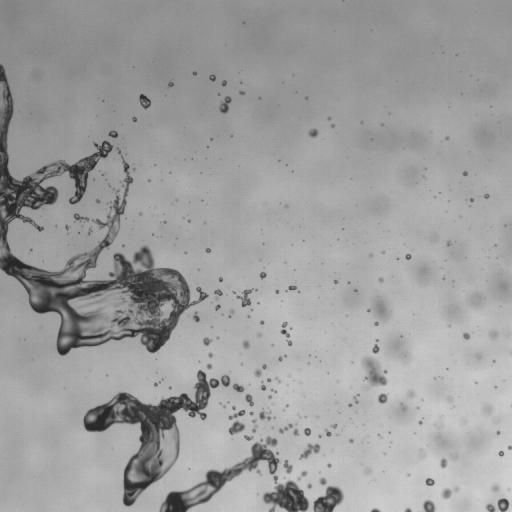droplet: (360, 356, 387, 389), (312, 486, 343, 511), (367, 295, 391, 325), (228, 409, 245, 434), (234, 288, 255, 307), (486, 498, 508, 511), (468, 292, 483, 307), (219, 96, 231, 113), (420, 500, 435, 511), (139, 94, 150, 108), (259, 410, 272, 420), (232, 383, 244, 393), (283, 460, 292, 473), (245, 394, 253, 406), (308, 128, 318, 137), (378, 393, 387, 403), (483, 404, 492, 414), (214, 289, 222, 299), (439, 458, 447, 468), (489, 330, 498, 338), (203, 337, 211, 346), (406, 390, 415, 398), (242, 340, 249, 349), (434, 420, 443, 427), (425, 478, 434, 485), (193, 312, 199, 322), (109, 130, 117, 137), (244, 434, 253, 440), (463, 332, 470, 339), (304, 428, 311, 435), (319, 478, 326, 485), (492, 484, 499, 491), (403, 354, 408, 363), (209, 74, 215, 81), (259, 272, 266, 278), (400, 403, 406, 410), (325, 429, 331, 436), (364, 468, 371, 474), (353, 394, 358, 402), (420, 450, 425, 458), (405, 253, 411, 259), (447, 396, 453, 402), (293, 428, 298, 435), (215, 304, 220, 309), (278, 356, 283, 361), (206, 364, 211, 369), (498, 451, 503, 456), (261, 384, 265, 390), (331, 424, 337, 428), (307, 483, 311, 489), (404, 508, 411, 511), (222, 80, 226, 85), (117, 149, 121, 154), (484, 194, 489, 198), (88, 228, 92, 233), (205, 248, 210, 252), (379, 277, 383, 282), (208, 352, 212, 357), (476, 354, 480, 359), (349, 438, 353, 443), (169, 82, 173, 86), (132, 117, 136, 121), (463, 171, 467, 175), (65, 225, 69, 229), (447, 241, 451, 245), (267, 378, 271, 382), (276, 378, 280, 382), (418, 420, 422, 424), (496, 431, 500, 435), (436, 434, 440, 438), (327, 463, 331, 467), (271, 389, 276, 392), (240, 91, 244, 94), (445, 136, 448, 140), (96, 199, 99, 203), (432, 238, 436, 241), (219, 277, 222, 281), (275, 290, 279, 293), (154, 382, 158, 385), (508, 445, 511, 449), (193, 72, 196, 75), (331, 124, 334, 127), (470, 198, 473, 201), (334, 280, 337, 283), (260, 321, 263, 324), (258, 333, 261, 336), (348, 403, 351, 406), (285, 404, 288, 407), (232, 406, 235, 409), (250, 412, 253, 415), (378, 434, 381, 437), (369, 254, 372, 256), (318, 435, 321, 437), (407, 473, 409, 476), (328, 117, 330, 119), (139, 212, 141, 214), (269, 396, 271, 398), (453, 457, 455, 459)
ligament: (0, 64, 208, 354), (83, 370, 227, 506), (159, 436, 310, 511), (300, 443, 320, 458), (281, 322, 292, 345), (441, 486, 459, 499), (254, 364, 266, 376), (279, 423, 292, 433), (73, 213, 88, 221), (297, 470, 307, 480), (372, 339, 379, 353), (286, 285, 297, 291), (252, 419, 257, 432), (229, 309, 233, 317), (370, 508, 380, 511)
